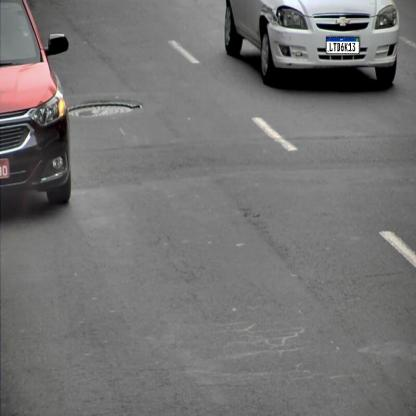PlacaM: (326, 37, 359, 54)
